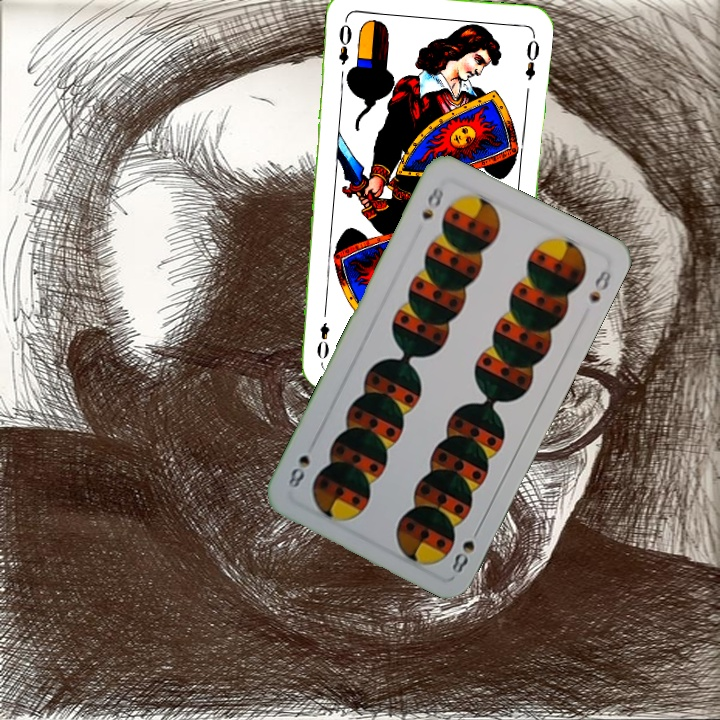EO: (335, 14, 354, 67)
S8: (447, 521, 484, 576), (417, 182, 447, 223)
